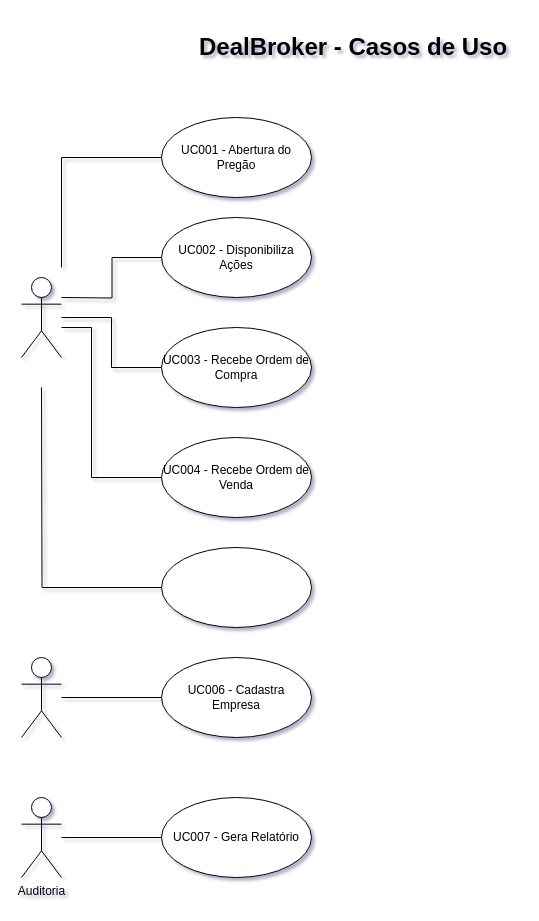
The diagram is 539 pixels wide and 921 high, and some of its shapes have lost their labels. The centre of each missing label's shape, as x and y in pixels:
"Empresa" belongs at pixel 41 697.
"Market" belongs at pixel 41 317.
"UC005 - Fechamento do Pregão" belongs at pixel 236 587.
